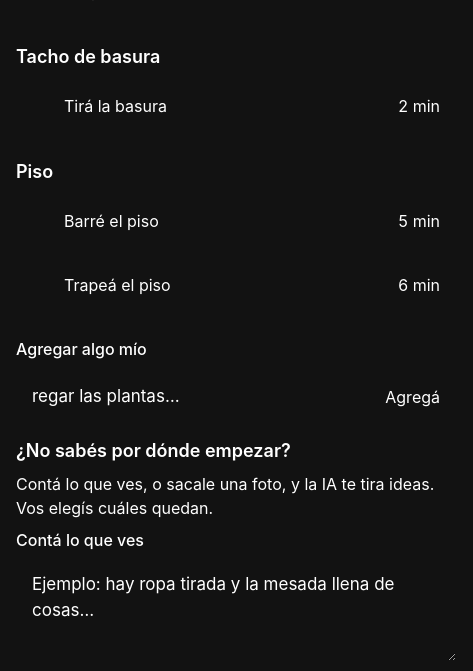
Test: agrega una tarea propia y la guarda
The image size is (473, 671).
(page scrolled)
Type "Regar las plantas" into the field labelled "Agregar algo mío". click: coordinates (189, 397)
box: x1=16 y1=369 x2=361 y2=425
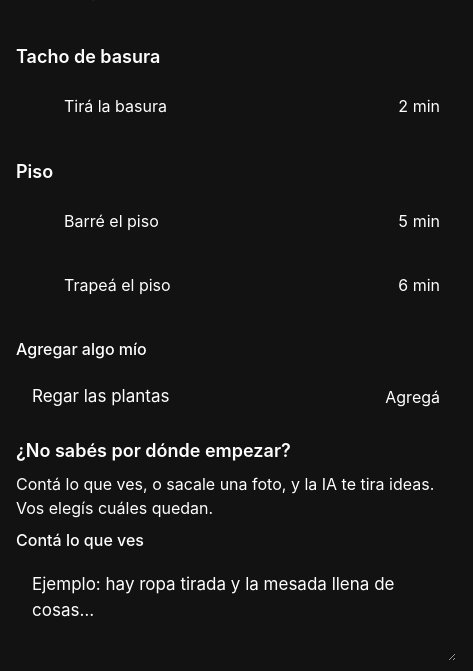
Click the button "Agregá". click: coordinates (413, 397)
box: x1=369 y1=369 x2=456 y2=425
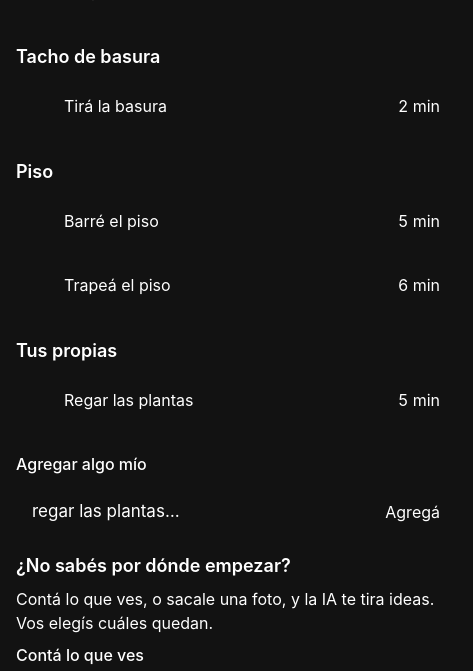
Expected: the text "Regar las plantas" is shown, x1=64 y1=390 x2=193 y2=410
